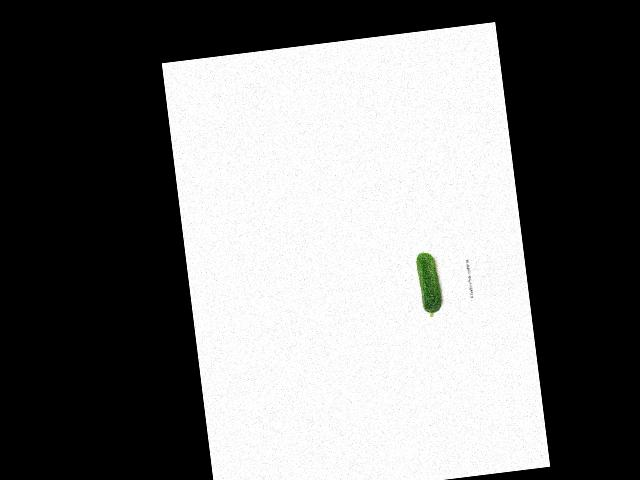cucumber: (415, 250, 443, 318)
